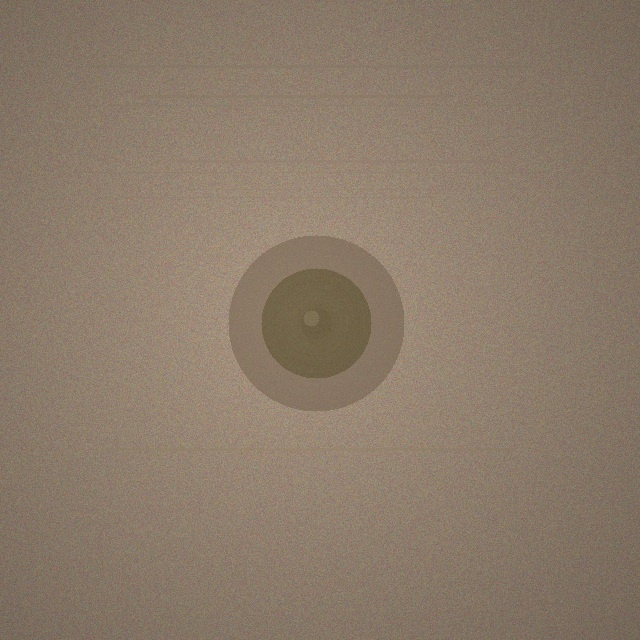good: (228, 235, 404, 411)
